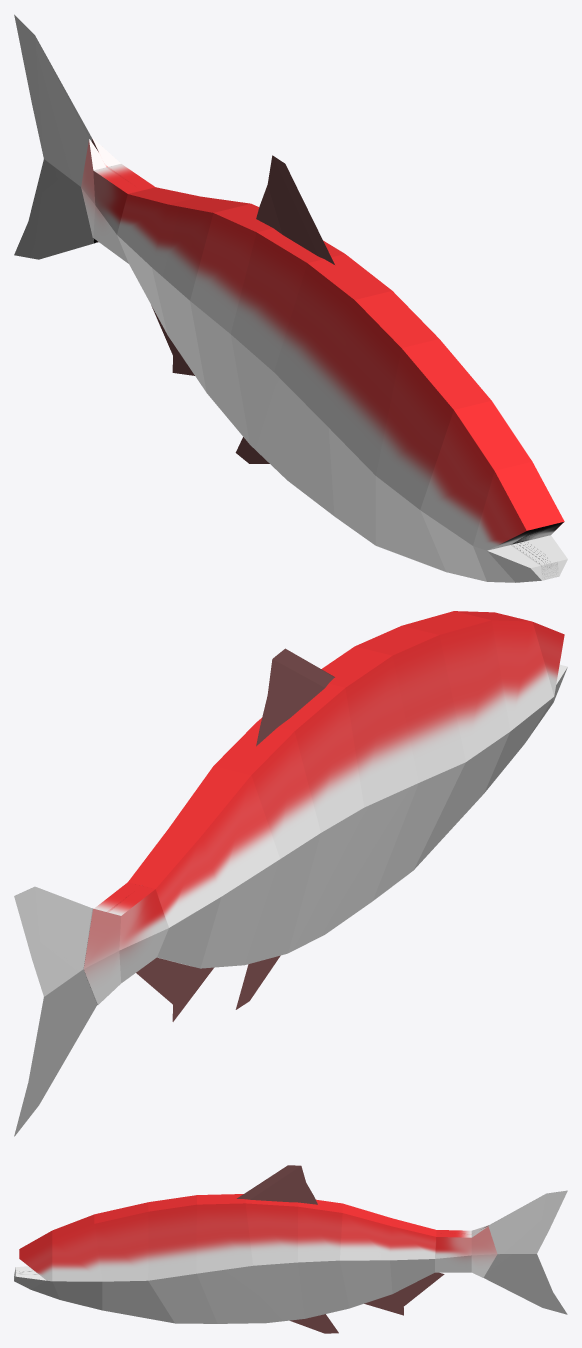
Rendered from Mort.fbx.
3 views of the same model, one above another, from view 1: azimuth 30°, elevation 25°; view 2: azimuth 150°, elevation 25°; view 3: azimuth 270°, elevation 25° (orthographic). The views are drawn at different scales.
Visible parts, largest first — view 1: Cube.009; view 2: Cube.009; view 3: Cube.009.
Part boxes in pixels (<box>): Cube.009: <box>14,14,567,582</box>; Cube.009: <box>14,611,567,1136</box>; Cube.009: <box>14,1165,567,1333</box>.
Size of the model in its own units: 11.81 by 40.83 by 122.
Materials: 1 (1 with a texture image).
